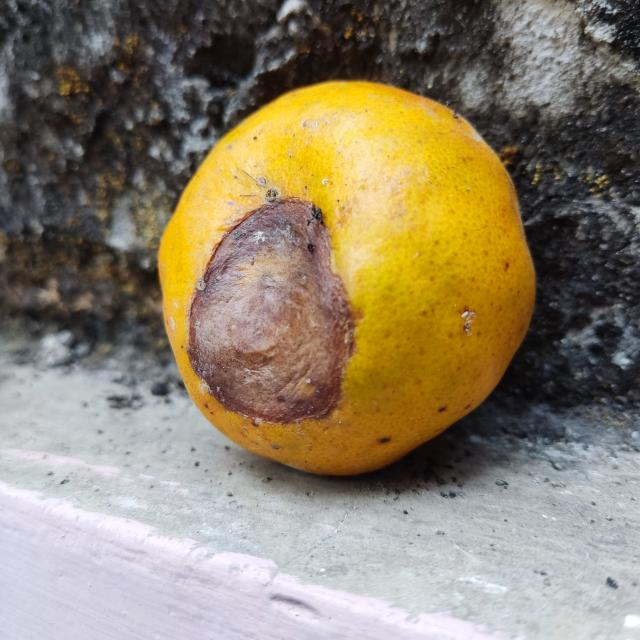orange: (157, 80, 537, 477)
